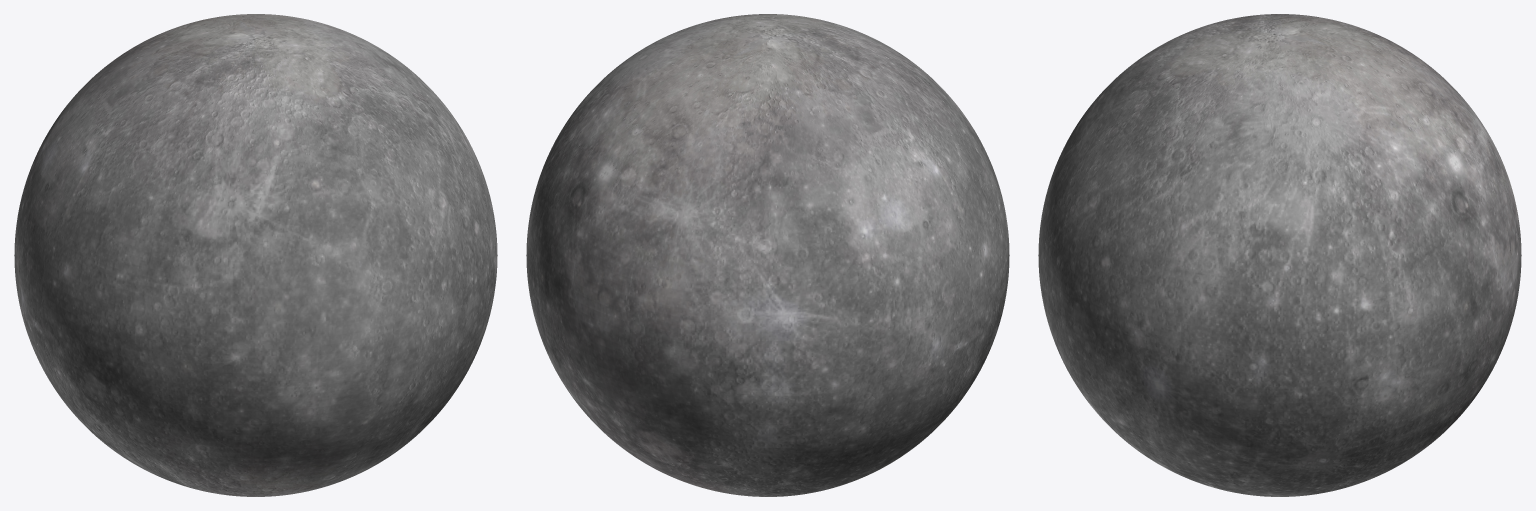
Rendered from Mercurio.gltf.
The picture shows the model from 3 angles, left to right: view 1: azimuth 30°, elevation 25°; view 2: azimuth 150°, elevation 25°; view 3: azimuth 270°, elevation 25°; orthographic projection.
Visible parts, largest first — view 1: Sphere; view 2: Sphere; view 3: Sphere.
Part boxes in pixels (x1,y1,x2,y2): Sphere: [14, 14, 497, 496]; Sphere: [526, 14, 1009, 496]; Sphere: [1038, 14, 1521, 496].
Size of the model in its own units: 0.9808 by 0.9808 by 0.9808.
1 material, 1 textured.
